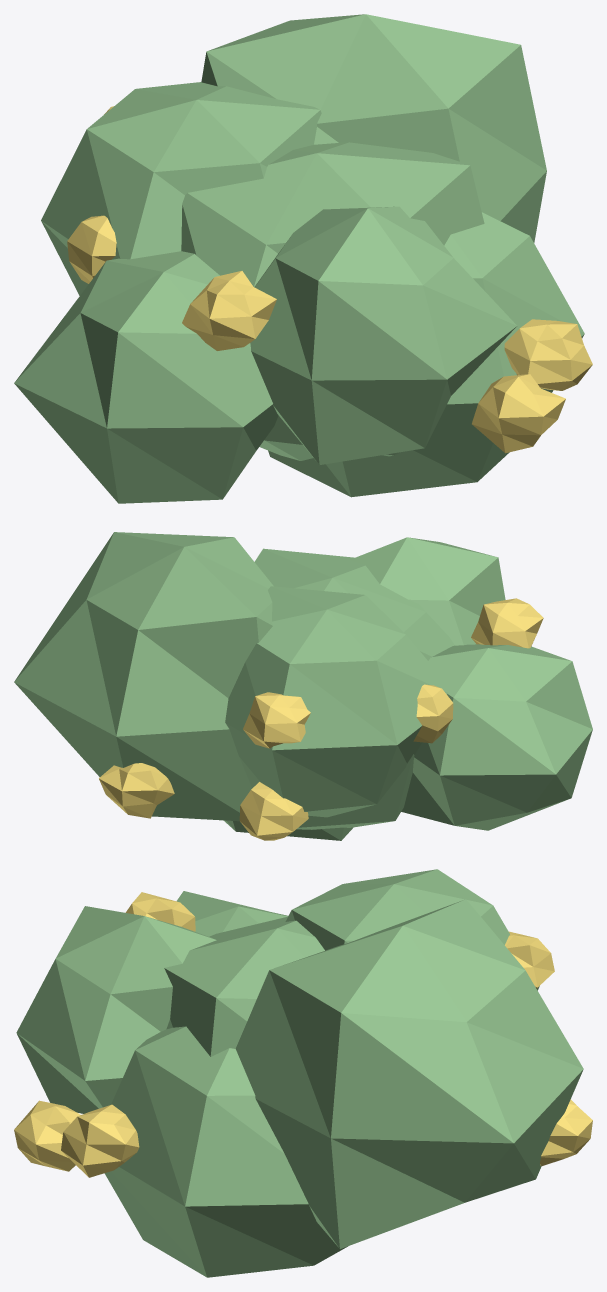
The model's file is nature_bush_flowering.glb.
3 views of the same model, one above another, from view 1: azimuth 30°, elevation 25°; view 2: azimuth 150°, elevation 25°; view 3: azimuth 270°, elevation 25° (orthographic). The views are drawn at different scales.
Parts seen in each view (by area): view 1: world; view 2: world; view 3: world.
Part boxes in pixels (x1,y1,x2,y2): world: (14,14,592,503); world: (14,532,592,840); world: (14,869,592,1277).
Bounding box in the file's own units: 2 × 1.31 × 1.94.
